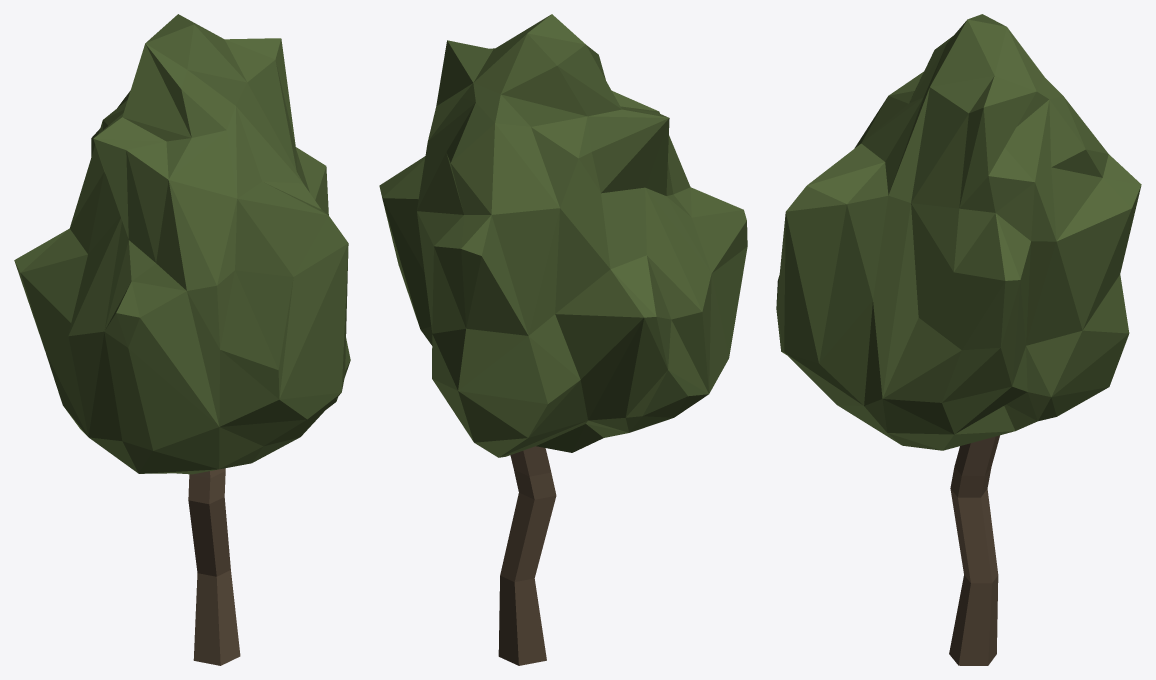
Rendered from tree_060.fbx.
3 views of the same model, side by side, from view 1: azimuth 30°, elevation 25°; view 2: azimuth 150°, elevation 25°; view 3: azimuth 270°, elevation 25° (orthographic). The views are drawn at different scales.
Visible parts, largest first — view 1: tree_060; view 2: tree_060; view 3: tree_060.
Part boxes in pixels (x1=…): tree_060: x1=14, y1=14, x2=350, y2=665; tree_060: x1=379, y1=14, x2=747, y2=665; tree_060: x1=776, y1=14, x2=1141, y2=665.
Size of the model in its own units: 0.3391 by 0.7135 by 0.3771.
1 material, 1 textured.
